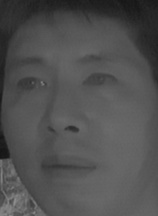eye: (14, 73, 51, 99), (82, 69, 119, 92)
mouth: (38, 149, 99, 185)
